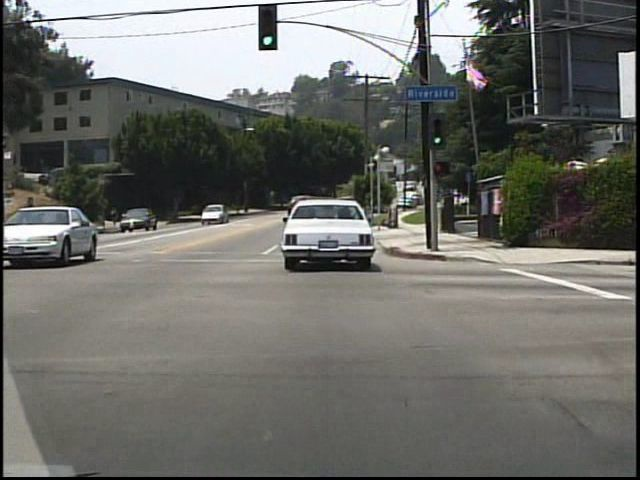person: (111, 206, 122, 229)
